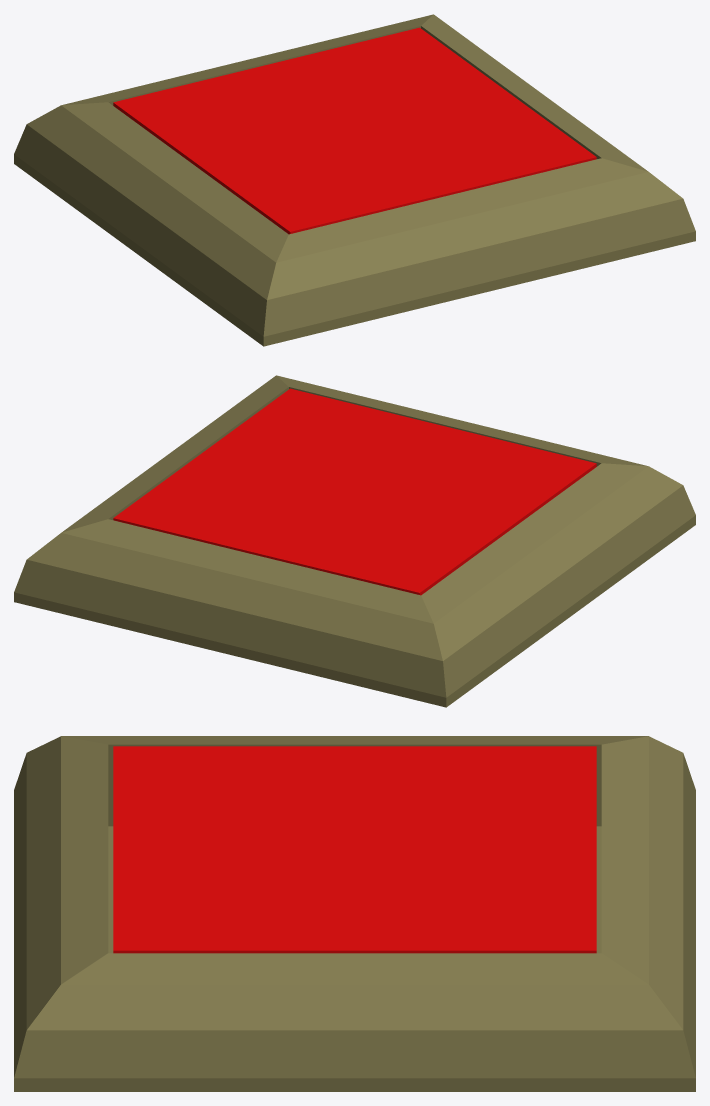
Rendered from PressurePlate.fbx.
3 views of the same model, one above another, from view 1: azimuth 30°, elevation 25°; view 2: azimuth 150°, elevation 25°; view 3: azimuth 270°, elevation 25° (orthographic). The views are drawn at different scales.
Visible parts, largest first — view 1: Cube, Cube.001; view 2: Cube, Cube.001; view 3: Cube, Cube.001.
Boxes of the visible parts, box(x1,y1,x2,y2) form: Cube: box(14, 14, 695, 346); Cube.001: box(113, 27, 596, 234); Cube: box(14, 375, 695, 707); Cube.001: box(113, 388, 596, 595); Cube: box(14, 736, 695, 1091); Cube.001: box(113, 746, 596, 953).
Size of the model in its own units: 200 by 32.15 by 200.
